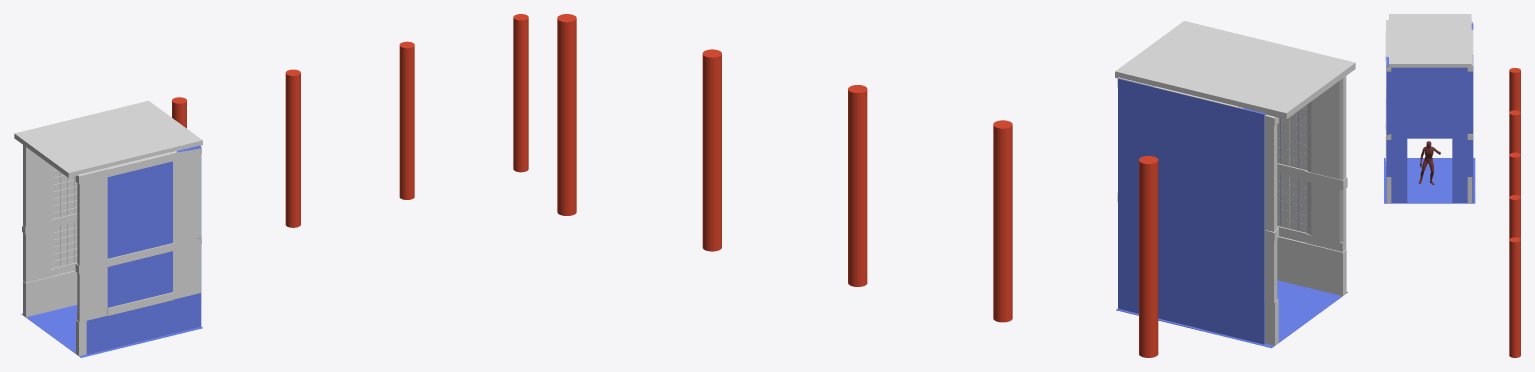
3 views of the same model, side by side, from view 1: azimuth 30°, elevation 25°; view 2: azimuth 150°, elevation 25°; view 3: azimuth 270°, elevation 25° (orthographic). The views are drawn at different scales.
Visible parts, largest first — view 1: Cube.013, Plane.022, DEIXAR EM TODOS OS LEVELS P/ REF, Cube.017, Cube.016, Cube.018, Cube.019, Plane.001, Plane.020, Plane.019; view 2: Cube.013, DEIXAR EM TODOS OS LEVELS P/ REF, Plane.022, Cube.016, Cube.017, Plane.001, Cube.019, Plane.017, Plane.016, Cube.018; view 3: Cube.013, Plane.022, DEIXAR EM TODOS OS LEVELS P/ REF, Plane.001, Ch36.014, Cube.016, Cube.018, Cube.017, Cube.019.
Boxes of the visible parts, box(x1,y1,x2,y2) form: Cube.013: box(86, 145, 201, 354); Plane.022: box(14, 100, 202, 177); DEIXAR EM TODOS OS LEVELS P/ REF: box(172, 14, 528, 227); Cube.017: box(75, 147, 201, 265); Cube.016: box(75, 237, 201, 355); Cube.018: box(22, 213, 77, 317); Cube.019: box(23, 145, 53, 226); Plane.001: box(21, 305, 202, 357); Plane.020: box(53, 167, 77, 218); Plane.019: box(53, 221, 77, 267); Cube.013: box(1118, 78, 1306, 344); DEIXAR EM TODOS OS LEVELS P/ REF: box(557, 14, 1158, 357); Plane.022: box(1115, 21, 1355, 119); Cube.016: box(1277, 163, 1347, 295); Cube.017: box(1307, 76, 1346, 179); Plane.001: box(1116, 280, 1347, 348); Cube.019: box(1117, 77, 1278, 231); Plane.017: box(1277, 105, 1307, 170); Plane.016: box(1277, 173, 1307, 232); Cube.018: box(1117, 192, 1278, 345); Cube.013: box(1386, 23, 1473, 202); Plane.022: box(1389, 14, 1471, 67); DEIXAR EM TODOS OS LEVELS P/ REF: box(1509, 68, 1520, 357); Plane.001: box(1384, 158, 1475, 203); Ch36.014: box(1418, 141, 1440, 184); Cube.016: box(1385, 88, 1391, 202); Cube.018: box(1467, 134, 1472, 202); Cube.017: box(1385, 20, 1391, 71); Cube.019: box(1467, 21, 1473, 71).
Size of the model in its own units: 1666 by 550 by 479.
